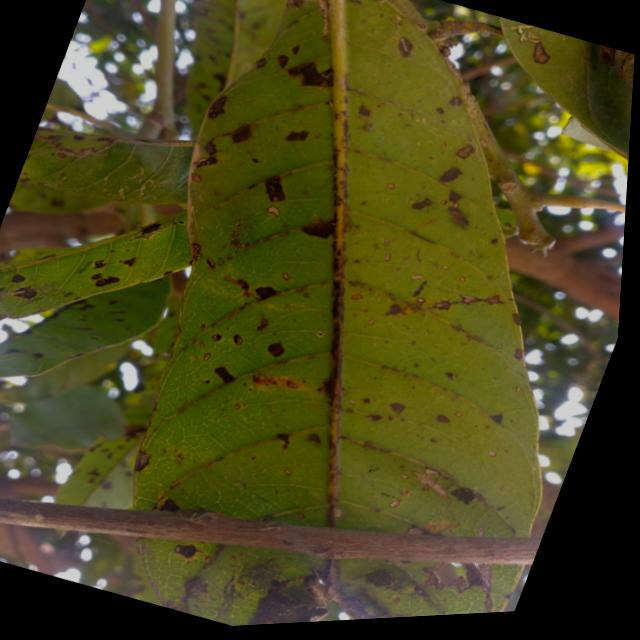Anthracnose: (174, 84, 475, 417), (334, 347, 519, 474), (241, 28, 354, 131)
